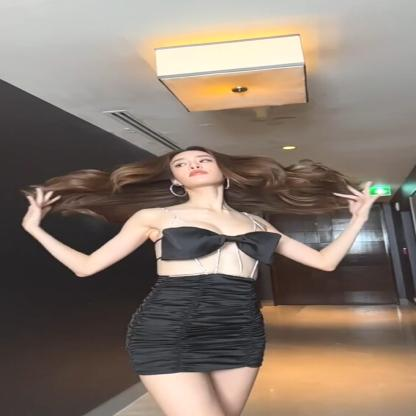jacket: (127, 225, 281, 381)
